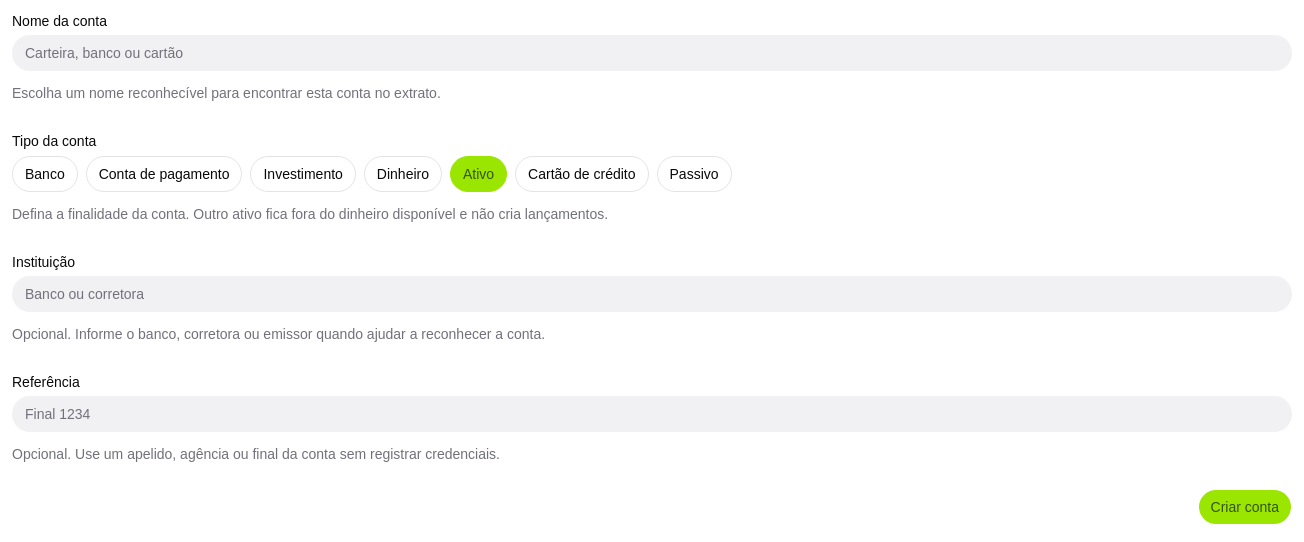
AccountForm › validates the name through the resolver before sending a command
Click the button "Criar conta": (1245,507) x1=1198 y1=489 x2=1292 y2=525
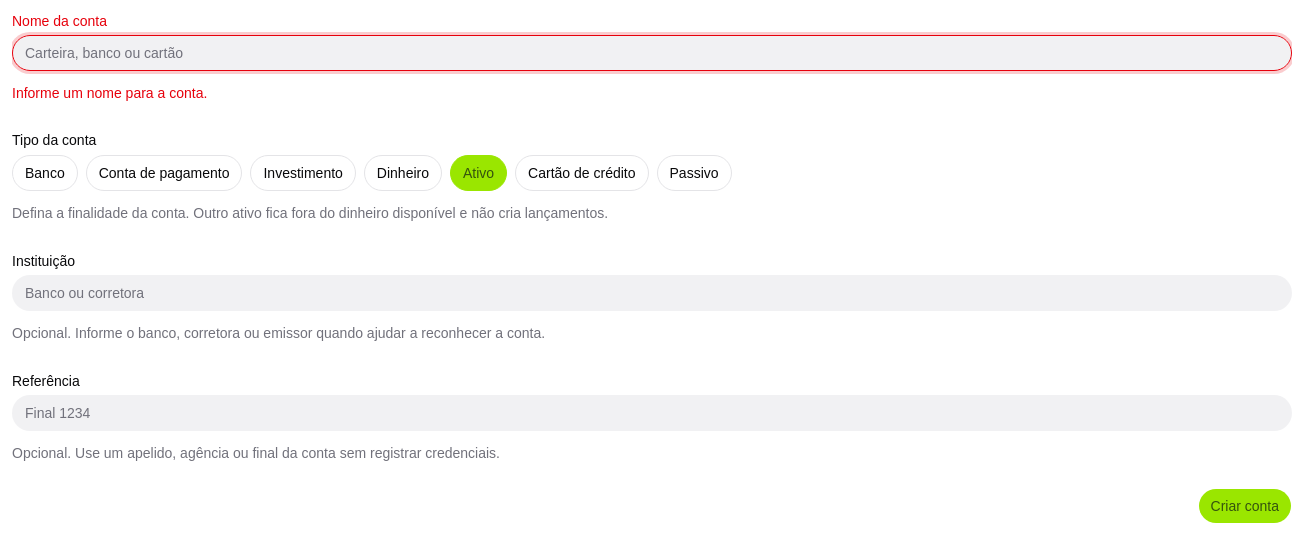
Expected: the text "Informe um nome para a conta." is shown, x1=12 y1=85 x2=207 y2=101
